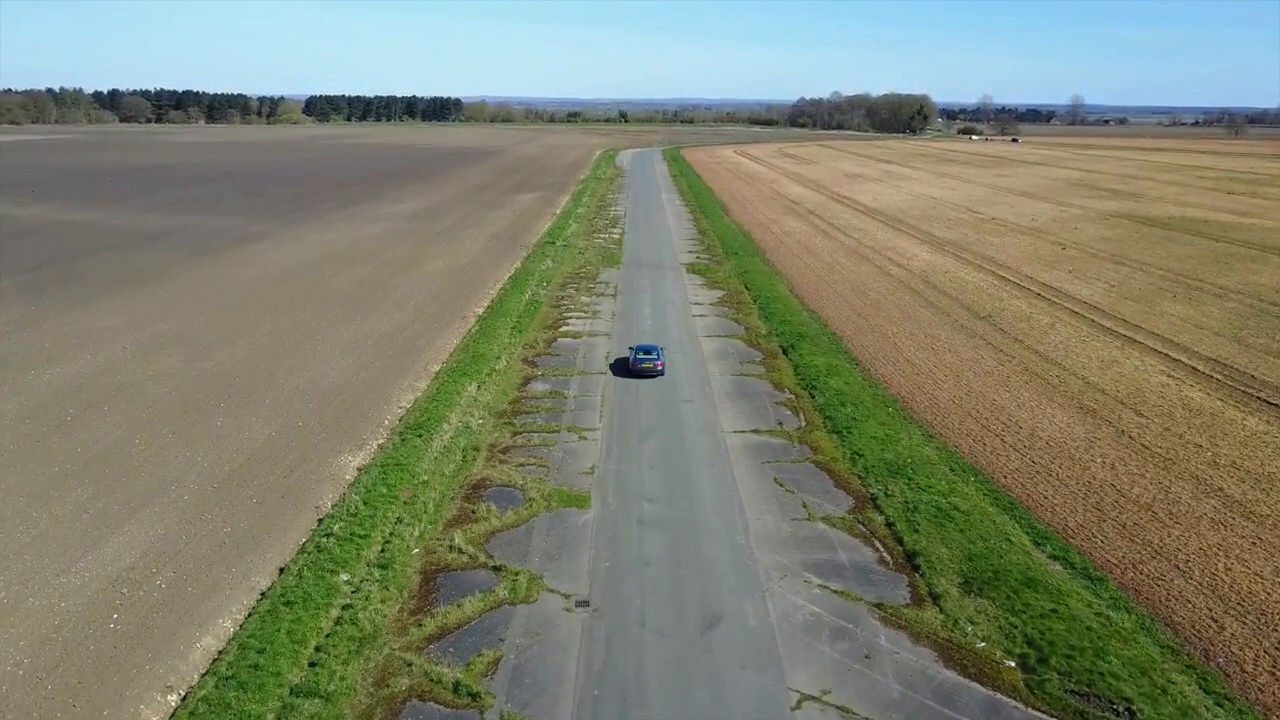araba: (625, 343, 669, 378)
